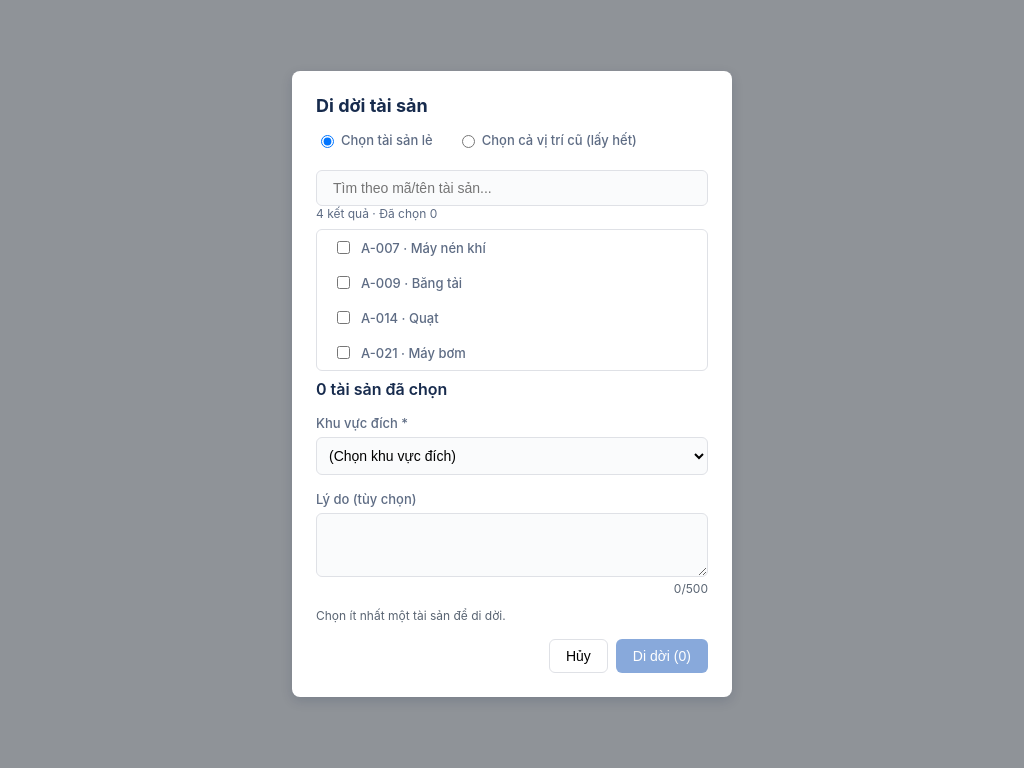
Test: DiDoiForm — chọn cả vị trí cũ (F13) › TC-S04-07: chọn nguồn Phòng 305 → lấy hết 2 tài sản
Click the radio button labelled "Chọn cả vị trí cũ (lấy hết)". click: point(468, 142)
box: top-left (462, 135), bottom-right (475, 148)
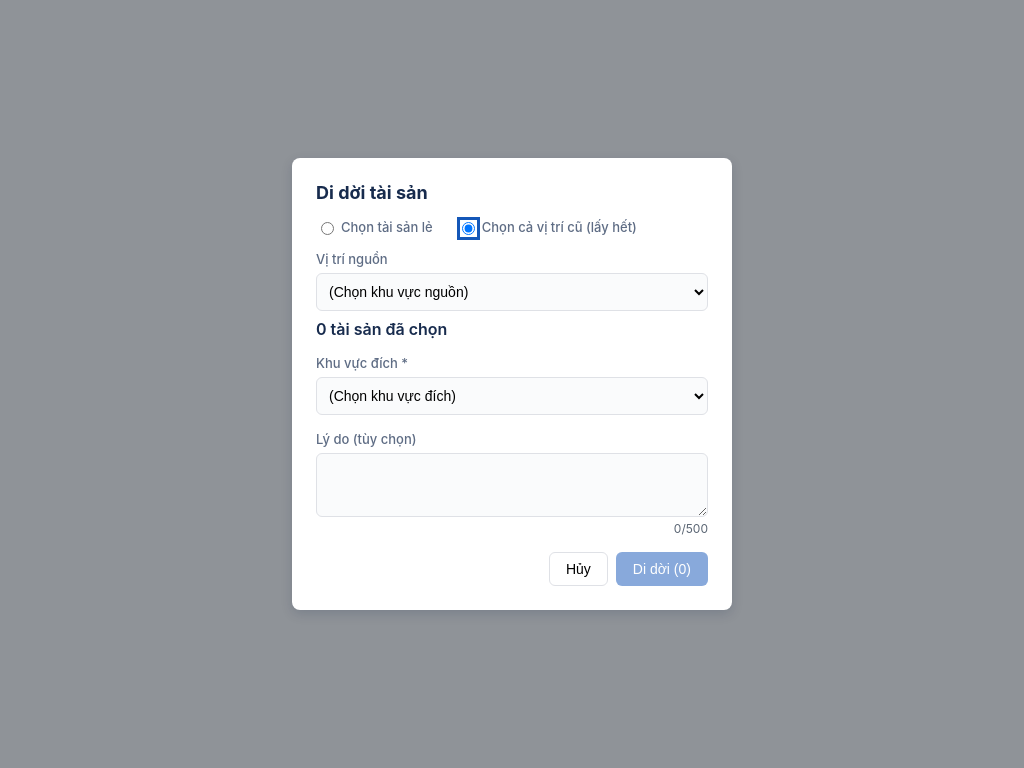
Select "Phòng 305" in the dropdown labelled "Vị trí nguồn". click: point(512, 292)
box: top-left (316, 273), bottom-right (708, 311)
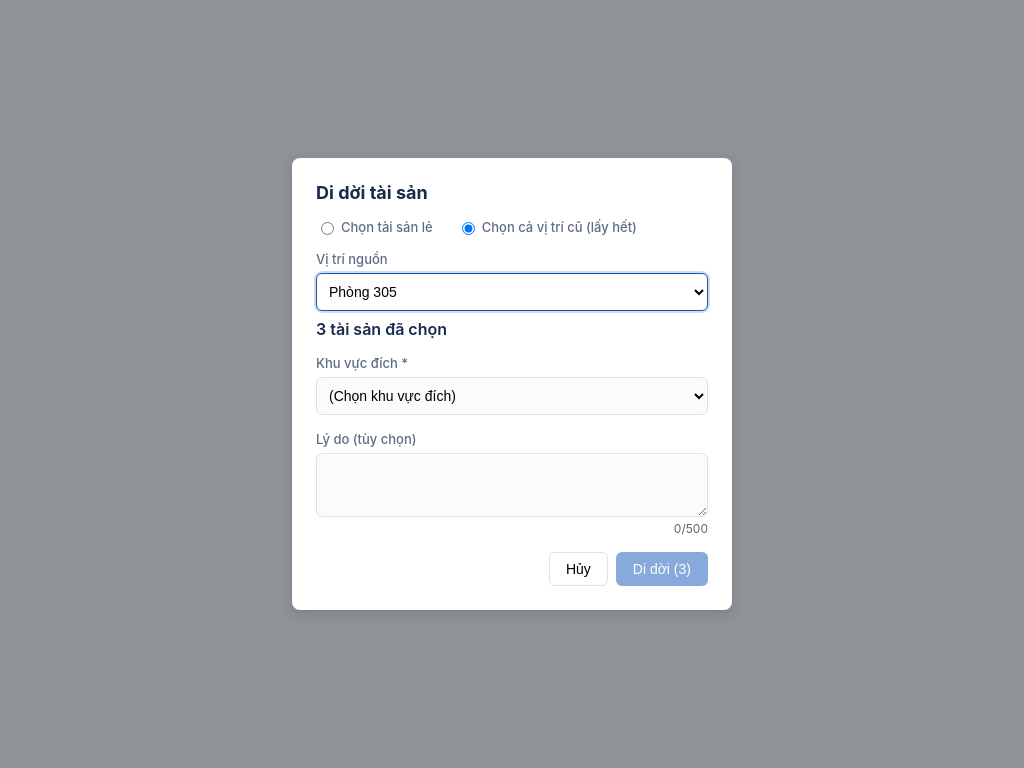
Expected: the text "3 tài sản đã chọn" is shown, top-left (316, 319), bottom-right (447, 339)
